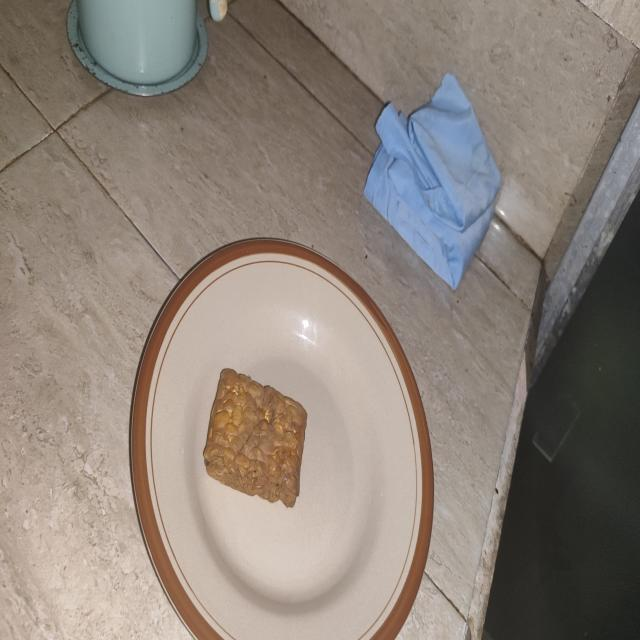tempe_goreng: (204, 370, 307, 508)
